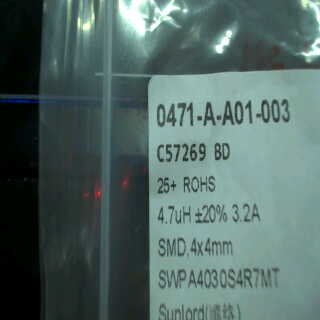4.7uH: (153, 202, 194, 227)
